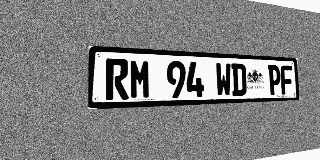4: (186, 61, 204, 97)
9: (167, 61, 186, 98)
D: (231, 63, 247, 96)
F: (280, 65, 293, 95)
M: (129, 59, 151, 99)
P: (268, 65, 281, 95)
R: (105, 58, 129, 100)
W: (215, 63, 231, 97)
